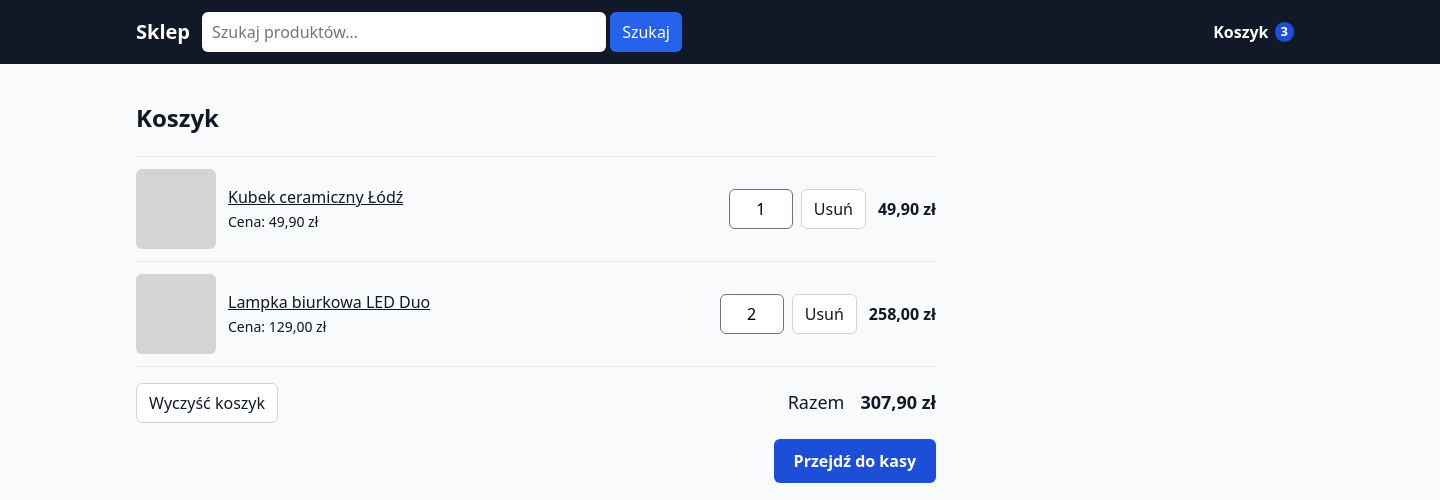
Test: cart page › removes a line
Click the button with aria-label "Usuń: Kubek ceramiczny Łódź" at (833, 209), box [801,189,866,229]
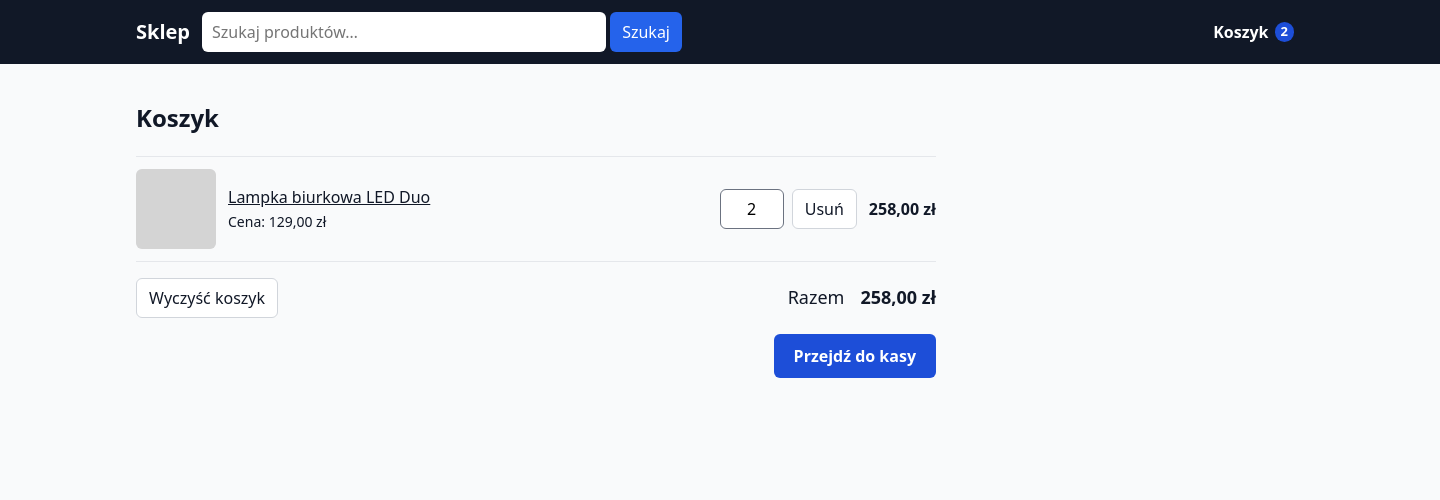
Result: the number of list items is 1 at [136,157,936,262]
Result: the link "Kubek ceramiczny Łódź" is gone
